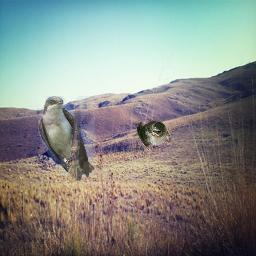Swallow: (38, 96, 95, 182), (132, 118, 171, 153)
